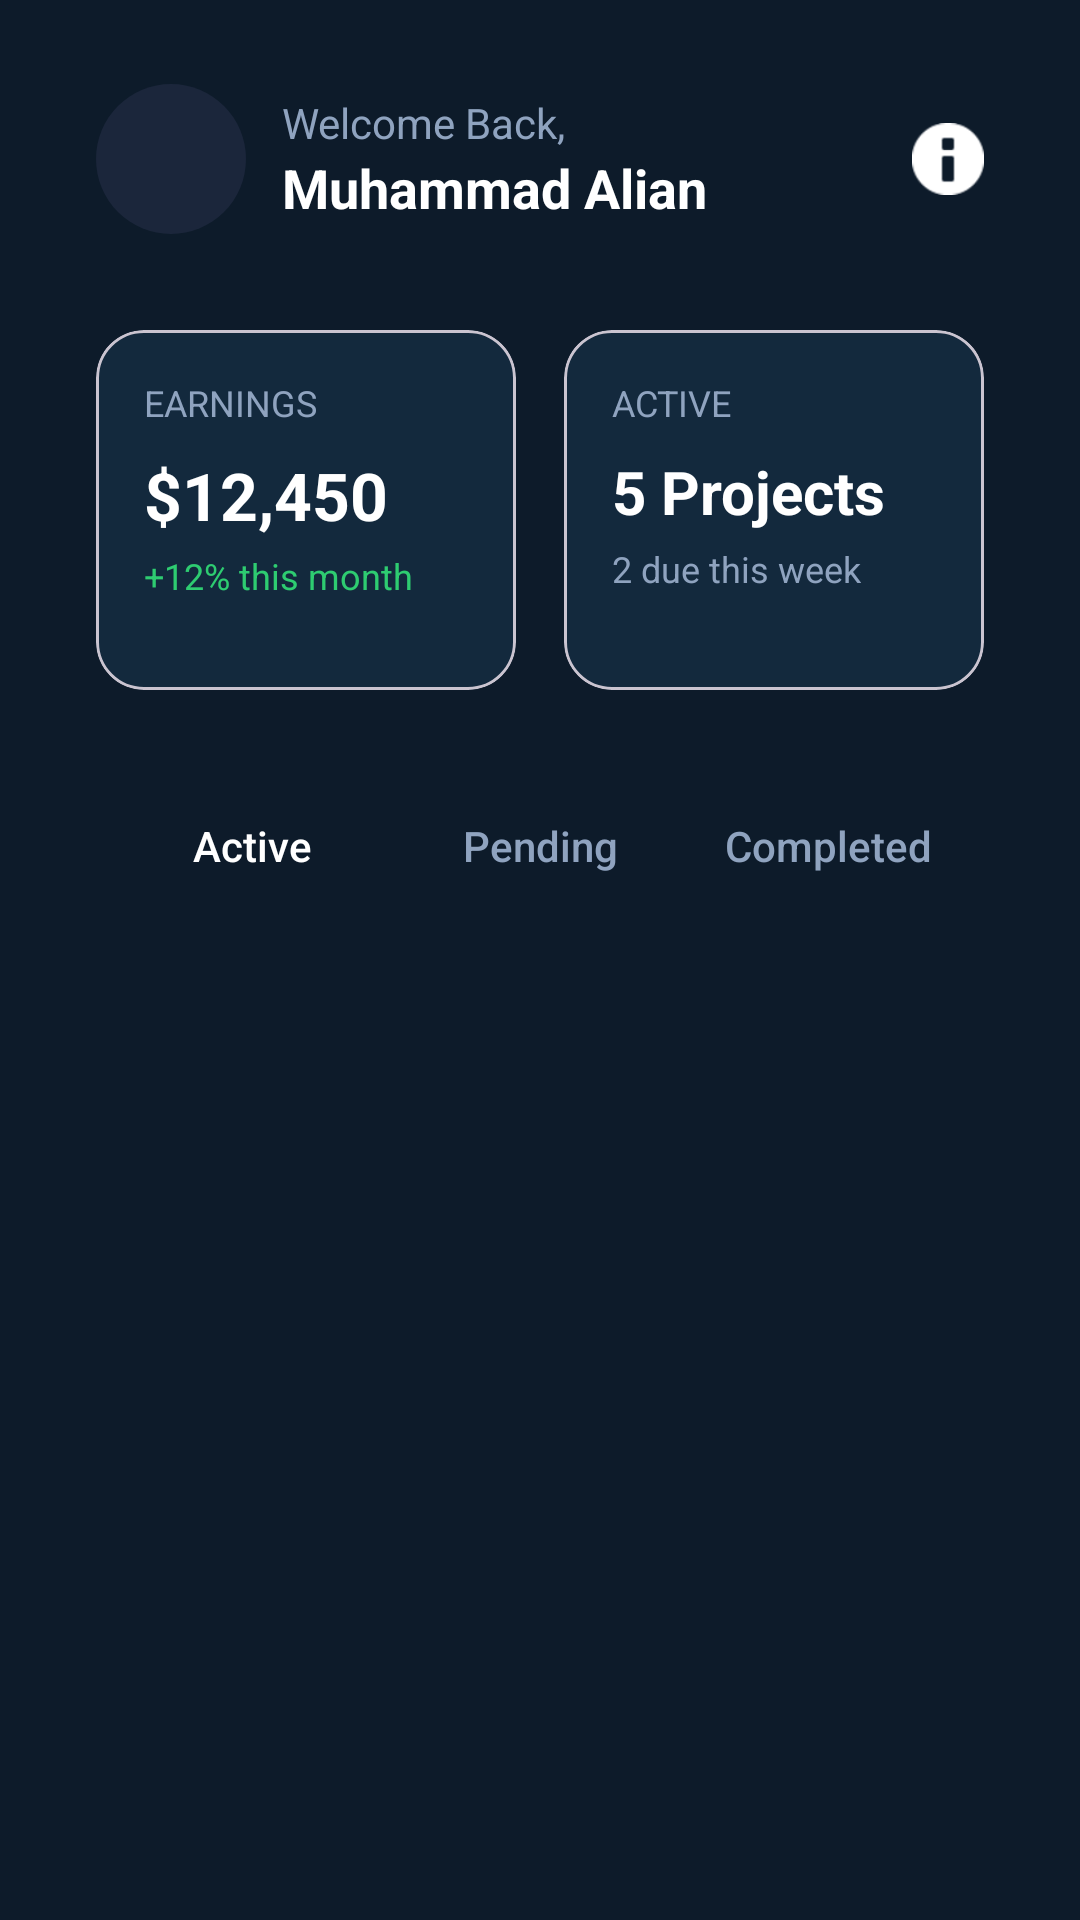

Where icons sit on this 1080*1920 app screen, as detection(x1, y1, x2, y2):
info: detection(912, 123, 984, 195)
